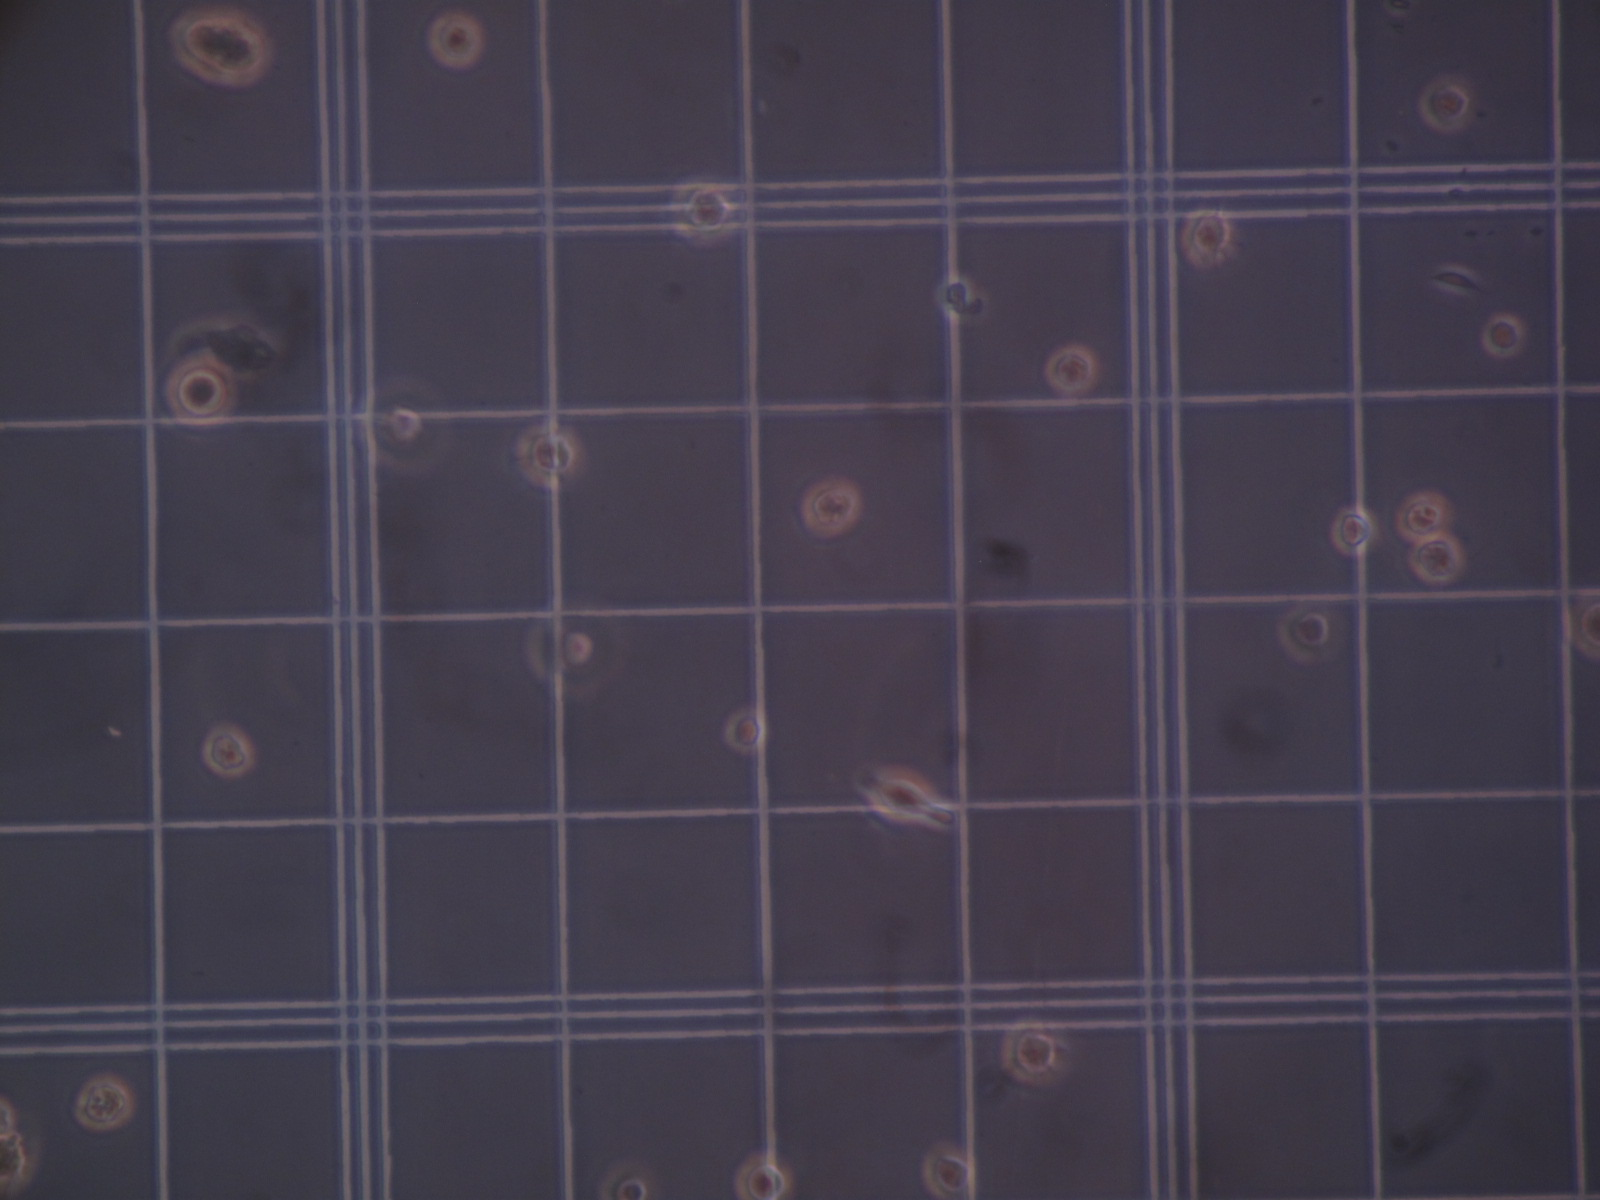hemo: (362, 376, 449, 473), (169, 10, 270, 87), (524, 616, 598, 696), (868, 766, 956, 827), (165, 355, 236, 429), (515, 424, 583, 490), (670, 179, 734, 246), (1000, 1020, 1063, 1087), (1277, 606, 1342, 666), (801, 478, 862, 538), (74, 1074, 134, 1131), (1180, 208, 1235, 268), (922, 1142, 976, 1200), (427, 13, 483, 68), (1417, 78, 1471, 134), (202, 724, 254, 776), (1396, 492, 1453, 541), (734, 1155, 792, 1200), (1044, 344, 1097, 393), (1409, 538, 1464, 584), (598, 1161, 656, 1200), (1569, 591, 1600, 661), (1330, 507, 1376, 555), (1, 1132, 34, 1195), (1482, 313, 1524, 358), (724, 708, 767, 753), (937, 276, 975, 321), (1, 1092, 14, 1141)
